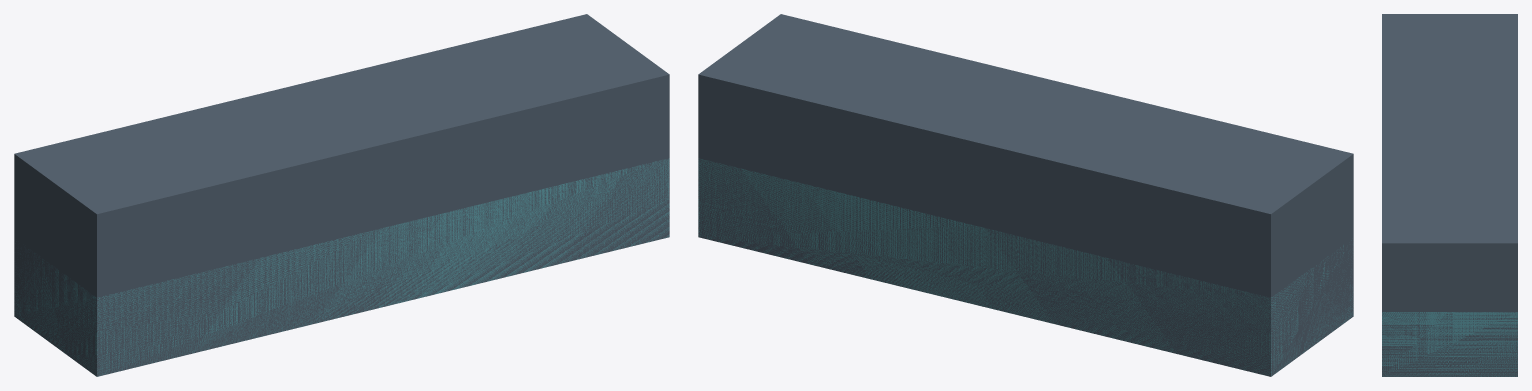
File: hosp-bridge-14.mega-v2.lod2.glb
3 views of the same model, side by side, from view 1: azimuth 30°, elevation 25°; view 2: azimuth 150°, elevation 25°; view 3: azimuth 270°, elevation 25° (orthographic). The views are drawn at different scales.
Parts seen in each view (by area): view 1: hosp-bridge-14; view 2: hosp-bridge-14; view 3: hosp-bridge-14.
Part boxes in pixels (bbox=[...]): hosp-bridge-14: bbox=[14, 14, 669, 376]; hosp-bridge-14: bbox=[698, 14, 1353, 376]; hosp-bridge-14: bbox=[1382, 14, 1517, 376].
Bounding box in the file's own units: 14 × 3.8 × 3.5.
